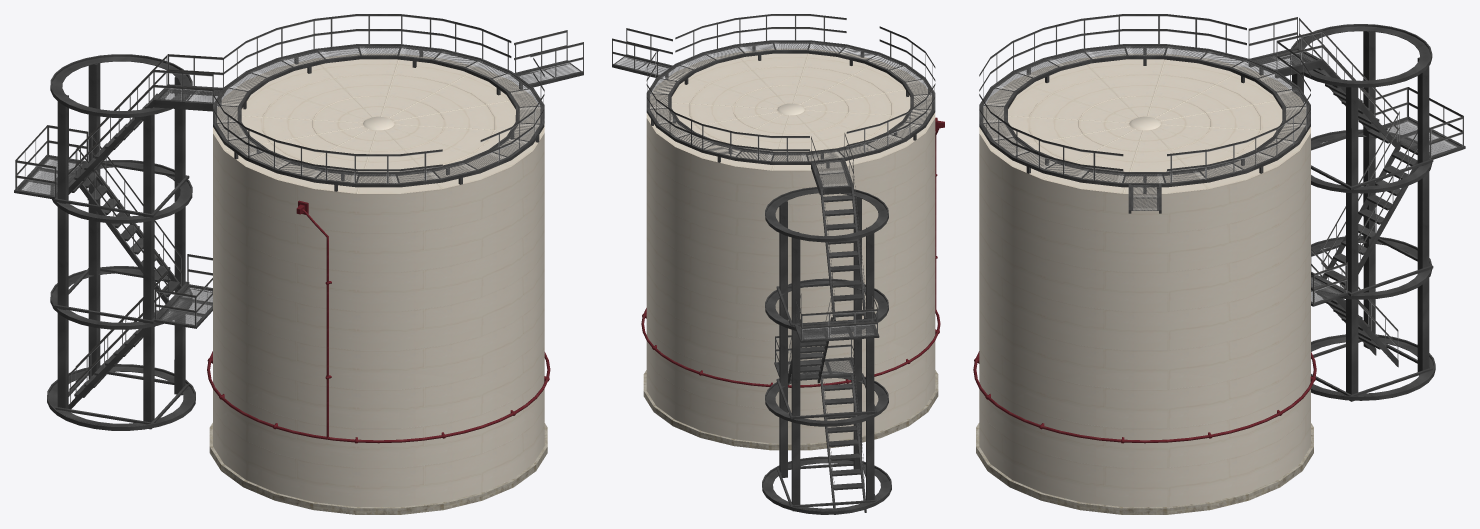
The model's file is plant-building40.glb.
3 renders of one model, left to right at view 1: azimuth 30°, elevation 25°; view 2: azimuth 150°, elevation 25°; view 3: azimuth 270°, elevation 25°, orthographic. The views are drawn at different scales.
Parts seen in each view (by area): view 1: Object8935807; view 2: Object8935807; view 3: Object8935807.
Part boxes in pixels (bbox=[...]): Object8935807: bbox=[14, 14, 583, 514]; Object8935807: bbox=[612, 14, 944, 514]; Object8935807: bbox=[973, 14, 1465, 514].
Size of the model in its own units: 13.8 by 11.32 by 13.68.
1 material, 1 textured.
